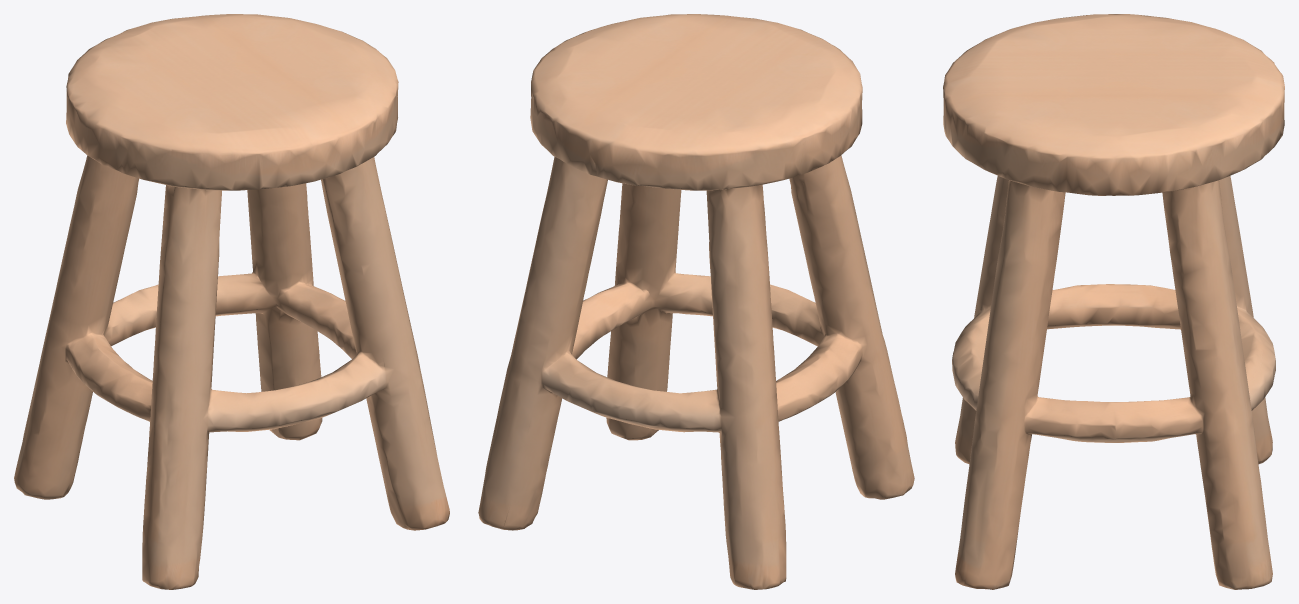
Rendered from Meshy_AI_Wooden_Stool_on_Purpl_0303132218_texture.fbx.
The picture shows the model from 3 angles, left to right: view 1: azimuth 30°, elevation 25°; view 2: azimuth 150°, elevation 25°; view 3: azimuth 270°, elevation 25°; orthographic projection. The views are drawn at different scales.
Visible parts, largest first — view 1: Mesh1.0; view 2: Mesh1.0; view 3: Mesh1.0.
Part boxes in pixels (bbox=[...]): Mesh1.0: bbox=[14, 14, 449, 589]; Mesh1.0: bbox=[478, 14, 914, 589]; Mesh1.0: bbox=[943, 14, 1284, 589].
Bounding box in the file's own units: 138 × 191 × 133.
Materials: 1 (1 with a texture image).
